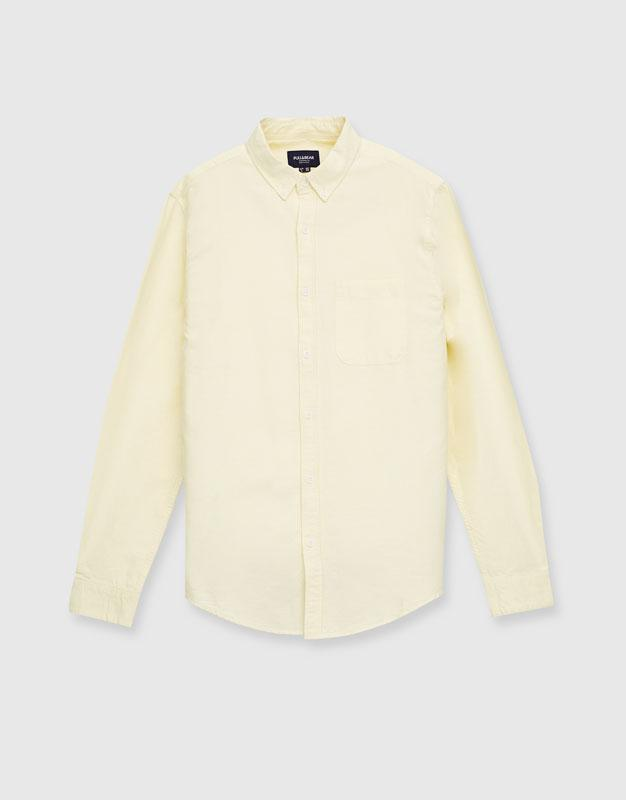teeshirt: (75, 102, 568, 651)
